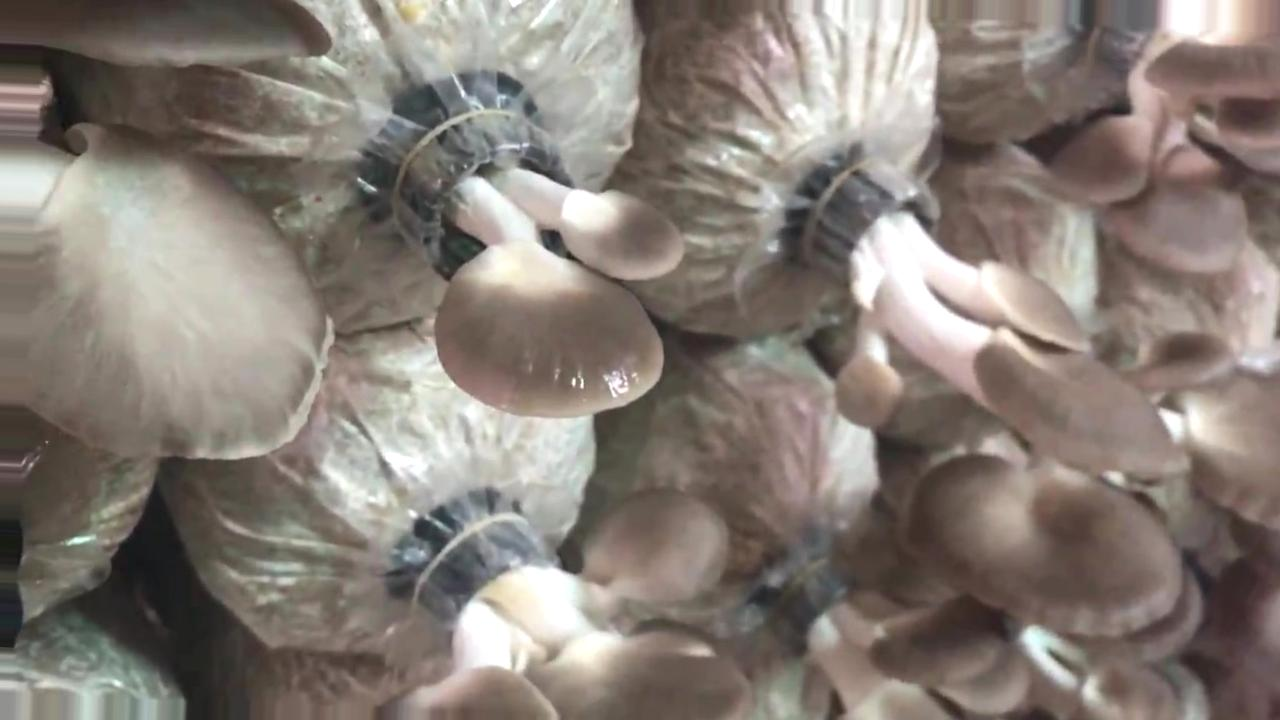nam: (816, 166, 1192, 481), (9, 120, 335, 467), (373, 485, 749, 720), (417, 107, 682, 420), (905, 453, 1178, 631), (760, 563, 1029, 720)
